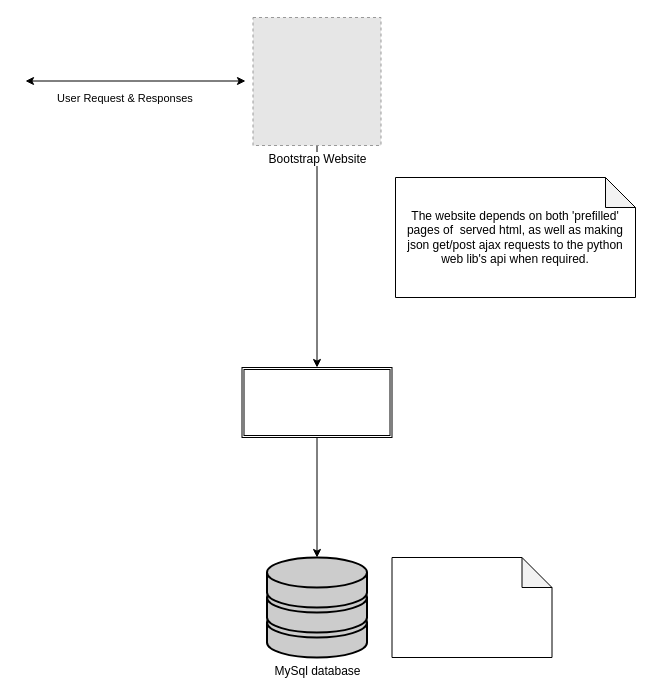
The diagram is 653 pixels wide and 696 high, and some of its shapes have lost their labels. Grey dashed boxes stand in for pictures. The shapes that lost their labels are listed below. From the top down, each one's centre as x and y in pixels, then its label:
At (316,402): "Python Web Application & Wine Data Model".
At (471,607): "wine sensor data has been previously inserted into database".
